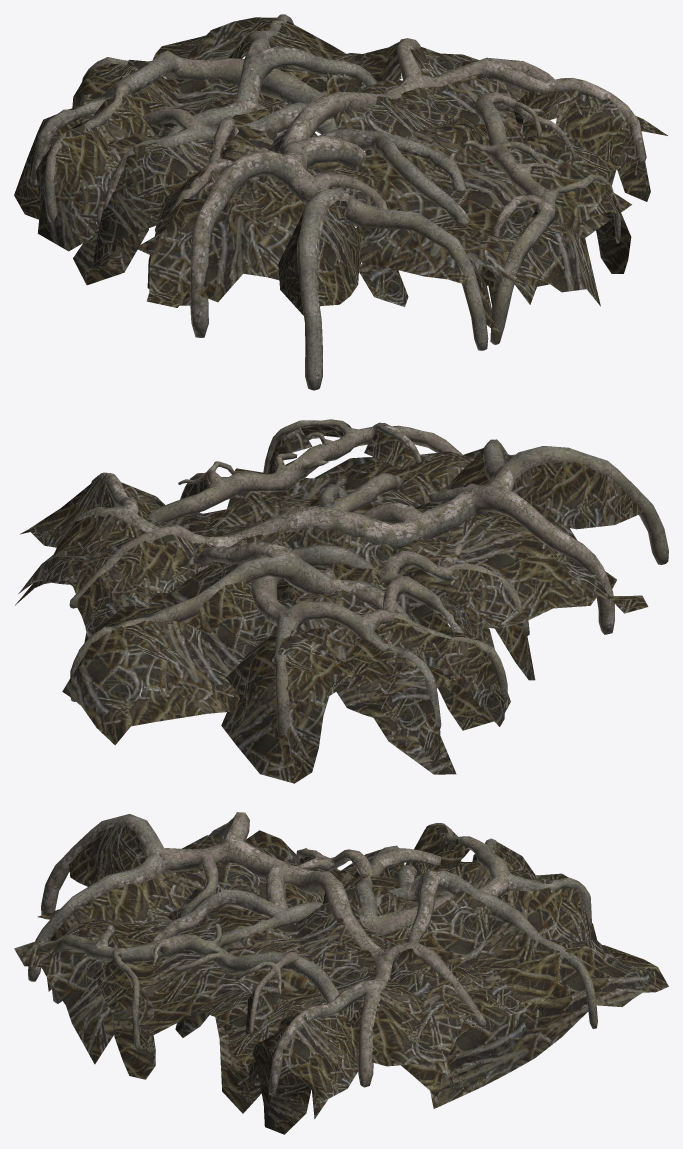
The model's file is SM_TreeRoots_04.fbx.
3 renders of one model, top to bottom at view 1: azimuth 30°, elevation 25°; view 2: azimuth 150°, elevation 25°; view 3: azimuth 270°, elevation 25°, orthographic. The views are drawn at different scales.
Visible parts, largest first — view 1: SM_TreeRoots_04; view 2: SM_TreeRoots_04; view 3: SM_TreeRoots_04.
Part boxes in pixels (x1,y1,x2,y2): SM_TreeRoots_04: (14, 14, 667, 390); SM_TreeRoots_04: (15, 419, 668, 783); SM_TreeRoots_04: (14, 812, 668, 1134).
Size of the model in its own units: 797 by 883 by 293.
Materials: 2 (2 with a texture image).
